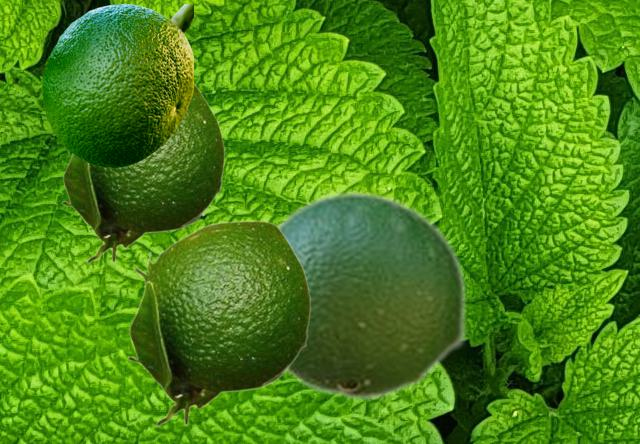dalandan: (275, 190, 467, 401), (126, 220, 310, 426), (60, 82, 224, 263), (42, 4, 192, 166)
